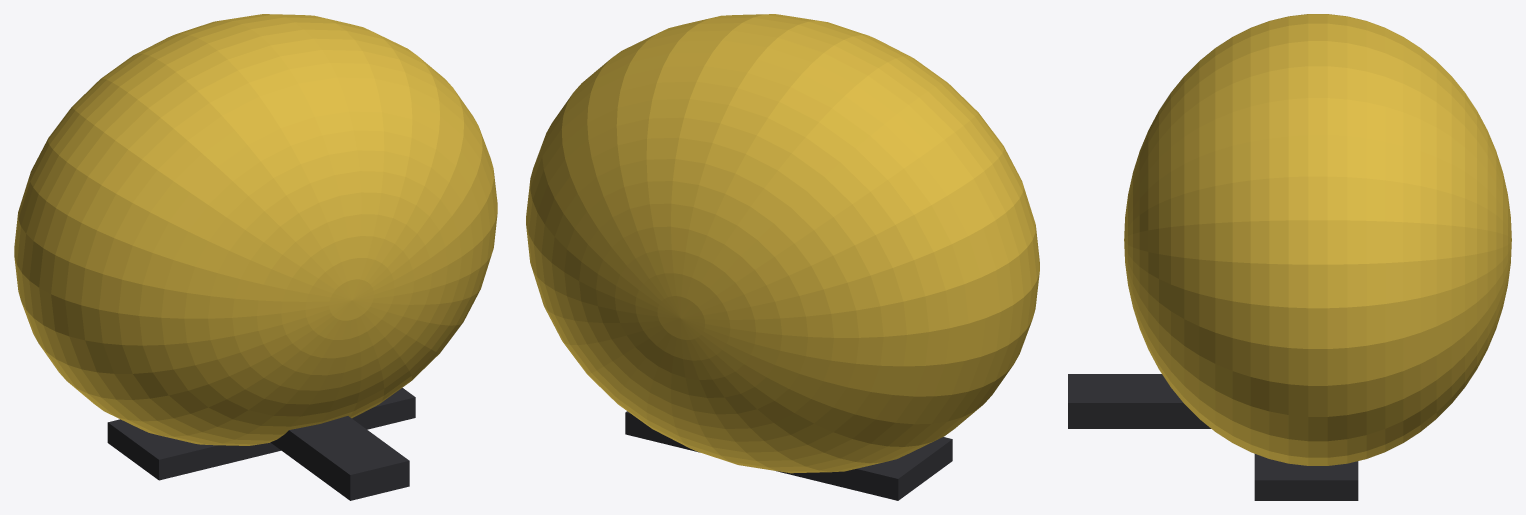
File: powerup_hodl_helmet.glb
The picture shows the model from 3 angles, left to right: view 1: azimuth 30°, elevation 25°; view 2: azimuth 150°, elevation 25°; view 3: azimuth 270°, elevation 25°; orthographic projection. The views are drawn at different scales.
Parts seen in each view (by area): view 1: helmet, stripe, visor; view 2: helmet, visor; view 3: helmet, stripe, visor.
Part boxes in pixels (left/top/right/bottom): helmet: left=14, top=14, right=497, bottom=445; stripe: left=270, top=416, right=409, bottom=500; visor: left=107, top=388, right=415, bottom=480; helmet: left=526, top=14, right=1039, bottom=473; visor: left=625, top=411, right=952, bottom=500; helmet: left=1124, top=14, right=1511, bottom=465; stripe: left=1068, top=374, right=1210, bottom=428; visor: left=1254, top=454, right=1358, bottom=500.
Bounding box in the file's own units: 0.8988 × 0.764 × 0.7725.
